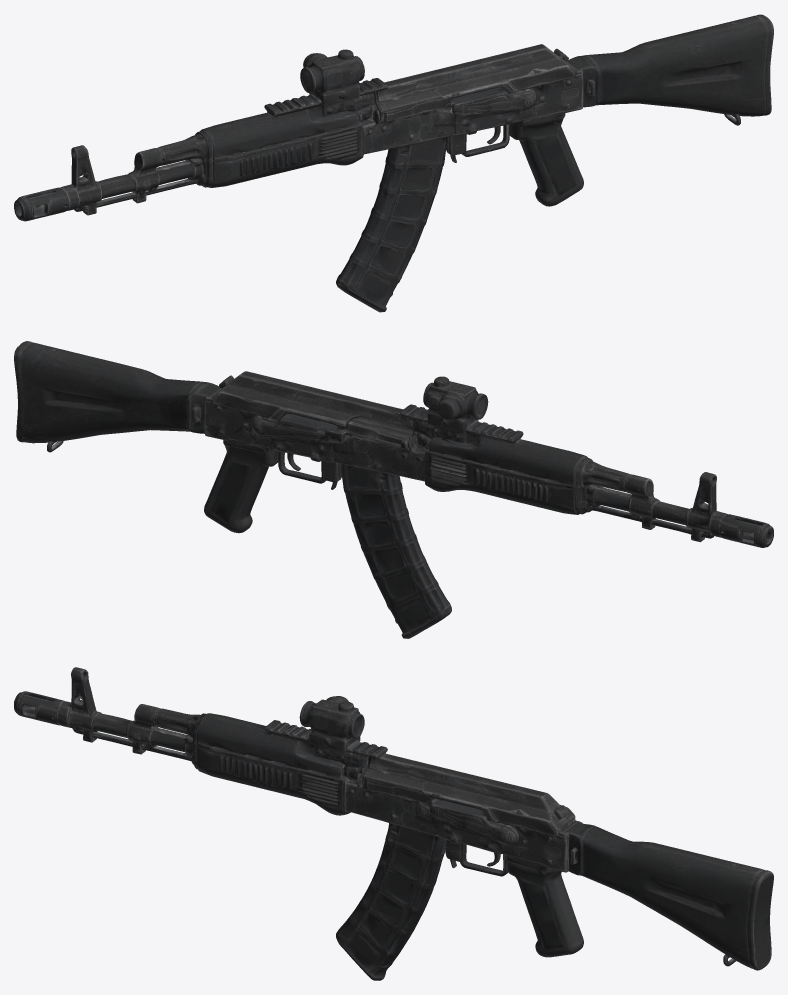
File: rifle.glb
3 views of the same model, one above another, from view 1: azimuth 30°, elevation 25°; view 2: azimuth 150°, elevation 25°; view 3: azimuth 330°, elevation 25° (orthographic).
Size of the model in its own units: 1.9 by 0.6487 by 0.1248.
1 material, 1 textured.
